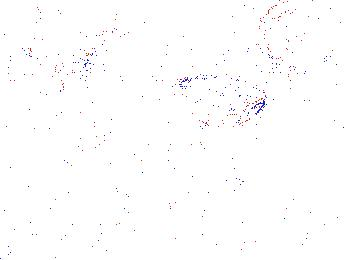moon jellyfish: (23, 1, 119, 59), (256, 1, 334, 69), (174, 73, 267, 128), (44, 22, 103, 75)
